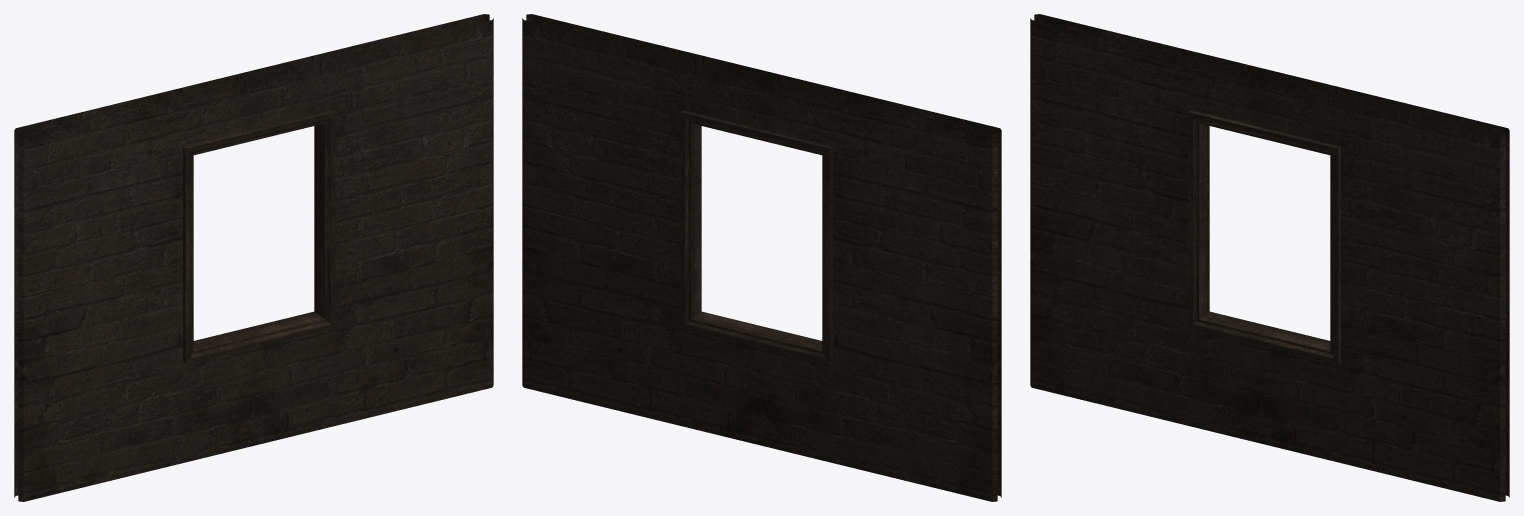
File: window_1_single_frame_only.obj
3 renders of one model, left to right at view 1: azimuth 30°, elevation 25°; view 2: azimuth 150°, elevation 25°; view 3: azimuth 330°, elevation 25°, orthographic.
Parts seen in each view (by area): view 1: window_1_single_frame_only; view 2: window_1_single_frame_only; view 3: window_1_single_frame_only.
Part boxes in pixels (x1,y1,x2,y2): window_1_single_frame_only: [14, 14, 493, 501]; window_1_single_frame_only: [522, 14, 1001, 501]; window_1_single_frame_only: [1030, 14, 1509, 501].
Bounding box in the file's own units: 4.06 × 3 × 0.2.
